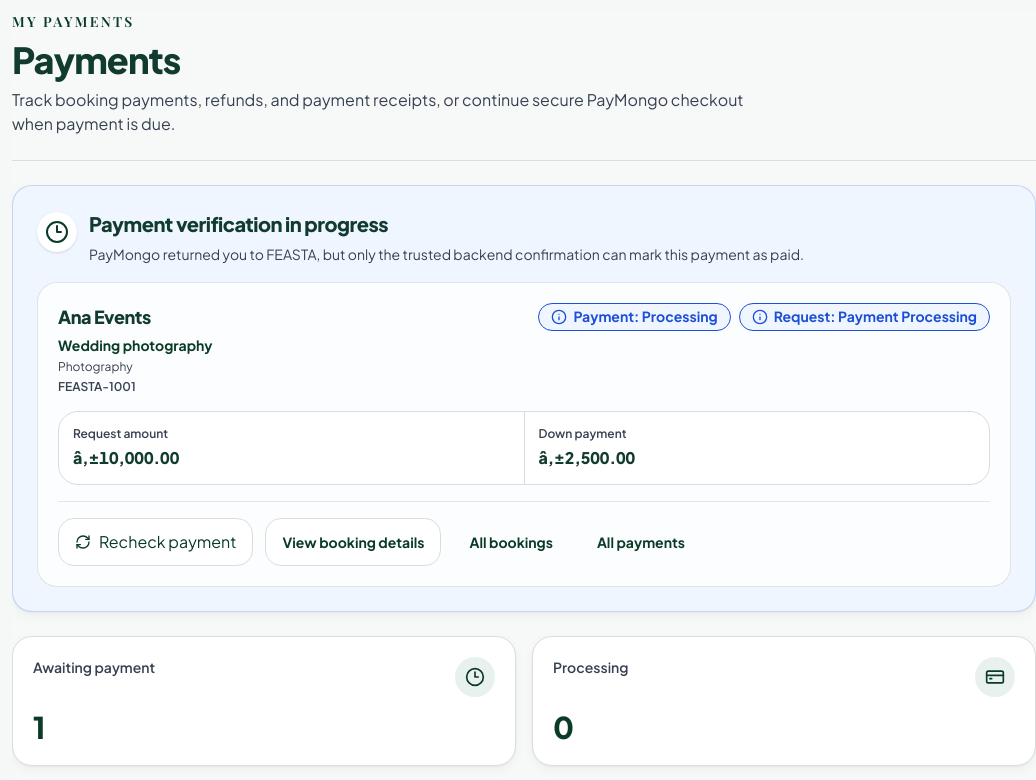
Test case: customer payments › reconciles the bounded payment page after an explicit processing-to-paid recheck
Click the button "Recheck payment".
click(156, 542)  # box [58,518,254,566]
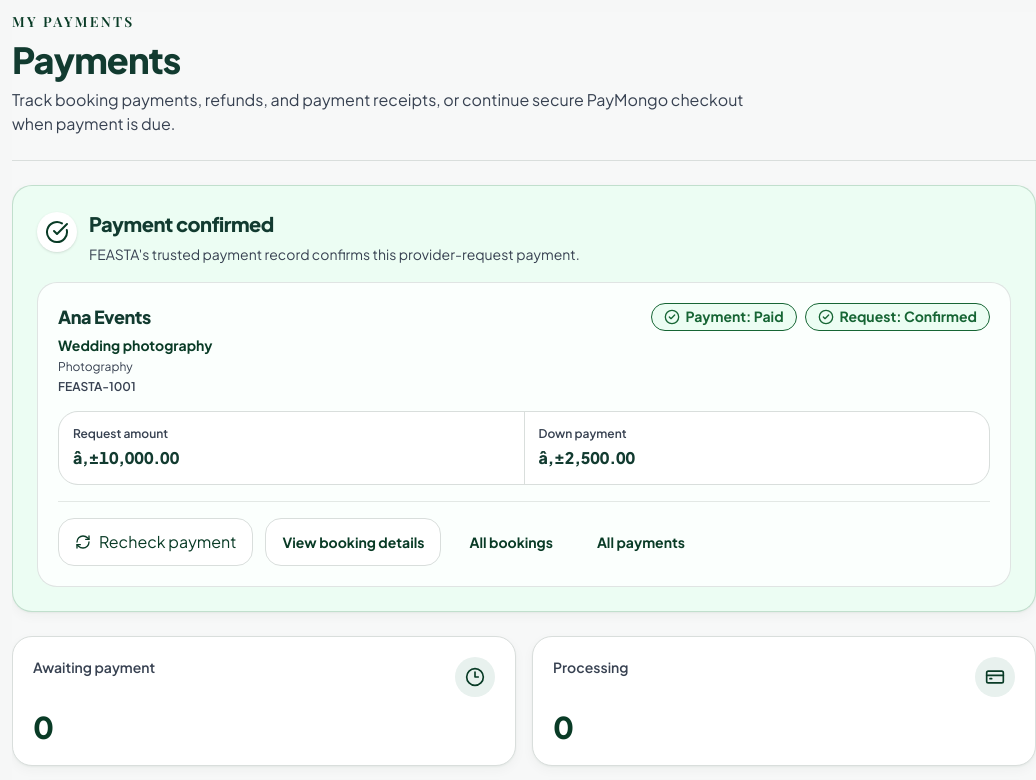
Expected: the text "0" below "Awaiting payment" is shown, [33,708,53,746]
Expected: the heading "Payment confirmed" is shown, [89,211,274,236]
